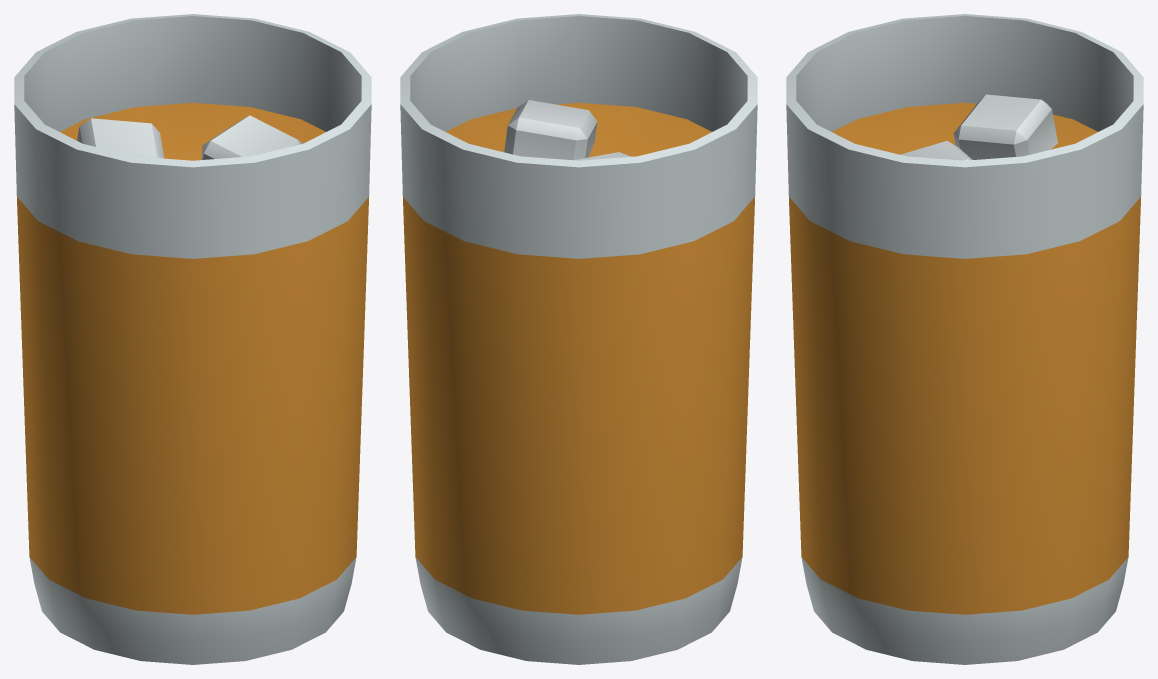
The model's file is glass.glb.
3 views of the same model, side by side, from view 1: azimuth 30°, elevation 25°; view 2: azimuth 150°, elevation 25°; view 3: azimuth 270°, elevation 25° (orthographic).
Visible parts, largest first — view 1: glass; view 2: glass; view 3: glass.
Boxes of the visible parts, left/top/right/bottom form: glass: left=14, top=14, right=371, bottom=664; glass: left=400, top=14, right=757, bottom=664; glass: left=786, top=14, right=1143, bottom=664.
Size of the model in its own units: 0.071 by 0.1105 by 0.0699.
